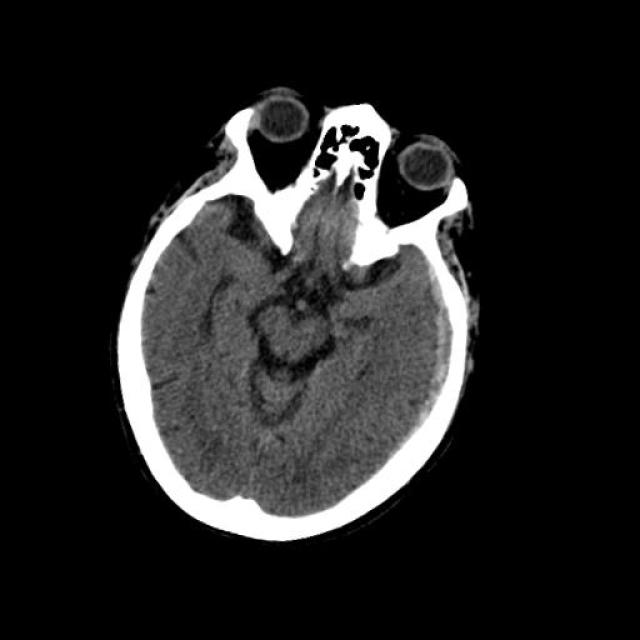Subdural: (374, 244, 494, 521)
